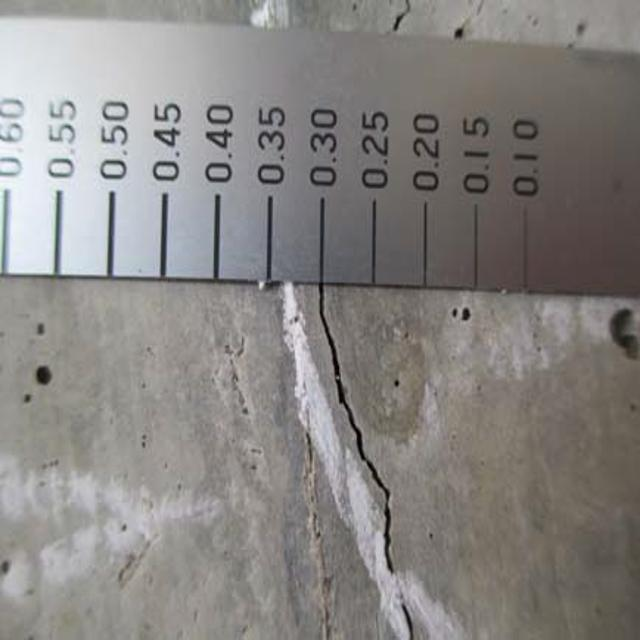crack: (309, 278, 420, 633)
